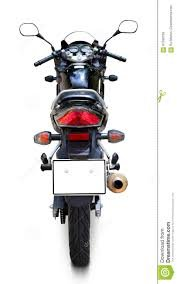motor: (19, 17, 138, 272)
